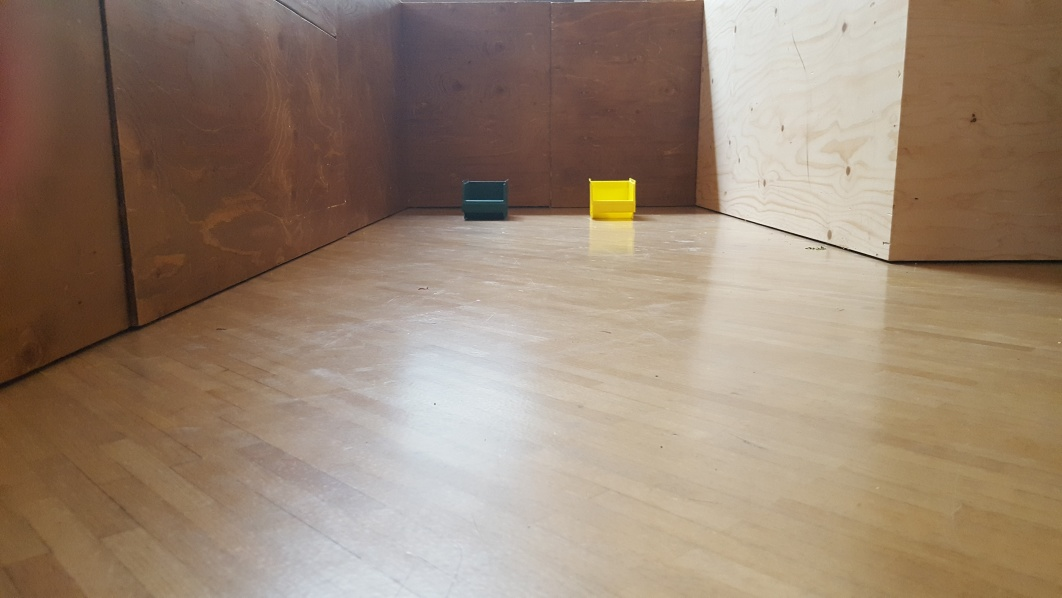tray: (584, 175, 642, 222), (461, 178, 510, 217)
